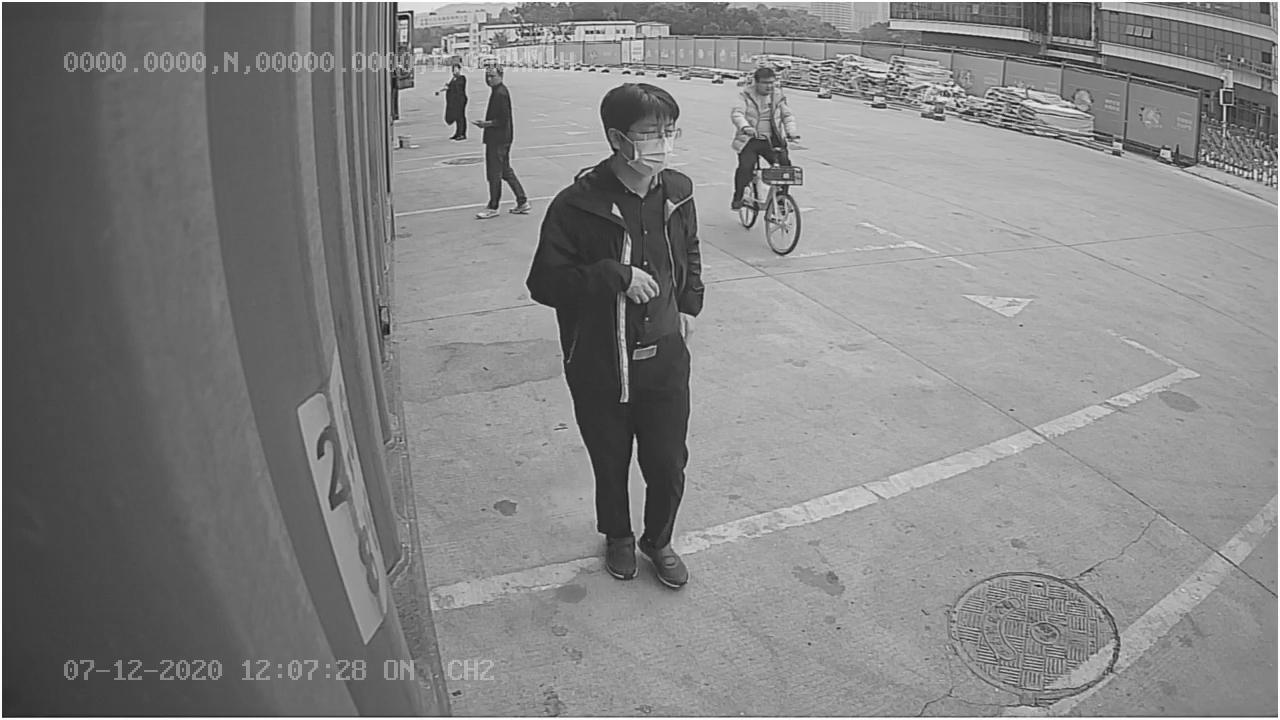person: (525, 81, 706, 584)
